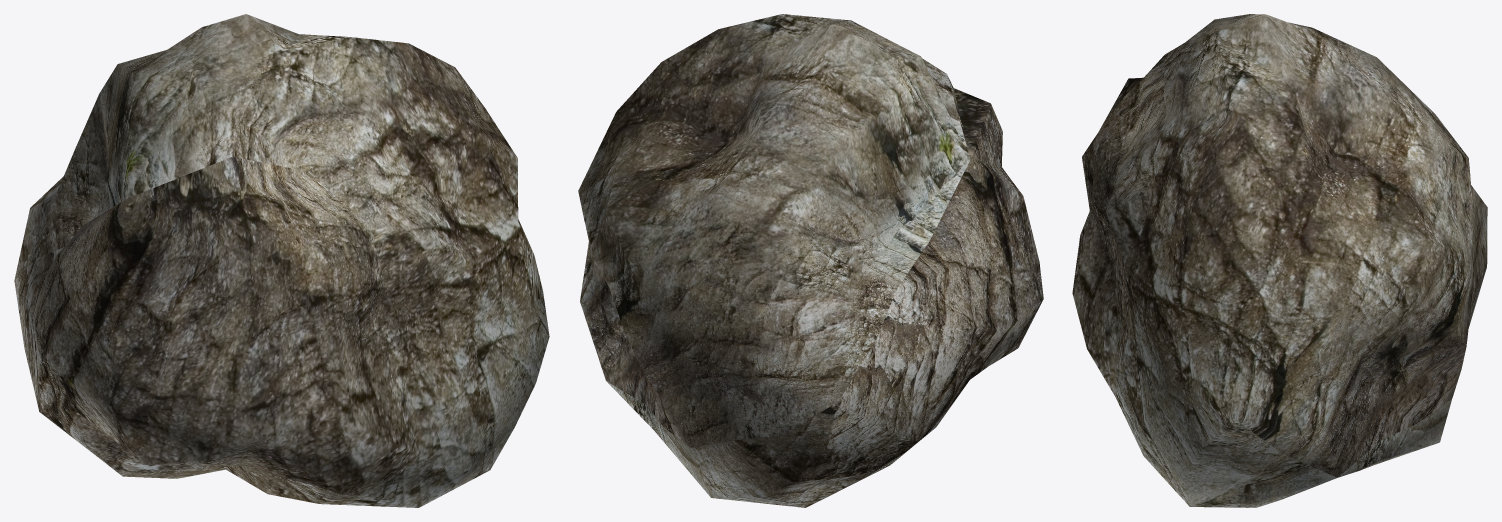
File: Stone.fbx
The picture shows the model from 3 angles, left to right: view 1: azimuth 30°, elevation 25°; view 2: azimuth 150°, elevation 25°; view 3: azimuth 270°, elevation 25°; orthographic projection. The views are drawn at different scales.
Visible parts, largest first — view 1: Stone; view 2: Stone; view 3: Stone.
Boxes of the visible parts, x1=… form: Stone: x1=14, y1=14, x2=549, y2=507; Stone: x1=578, y1=14, x2=1043, y2=507; Stone: x1=1072, y1=14, x2=1487, y2=507.
Bounding box in the file's own units: 23.45 × 22.97 × 20.47.
Materials: 1 (1 with a texture image).
